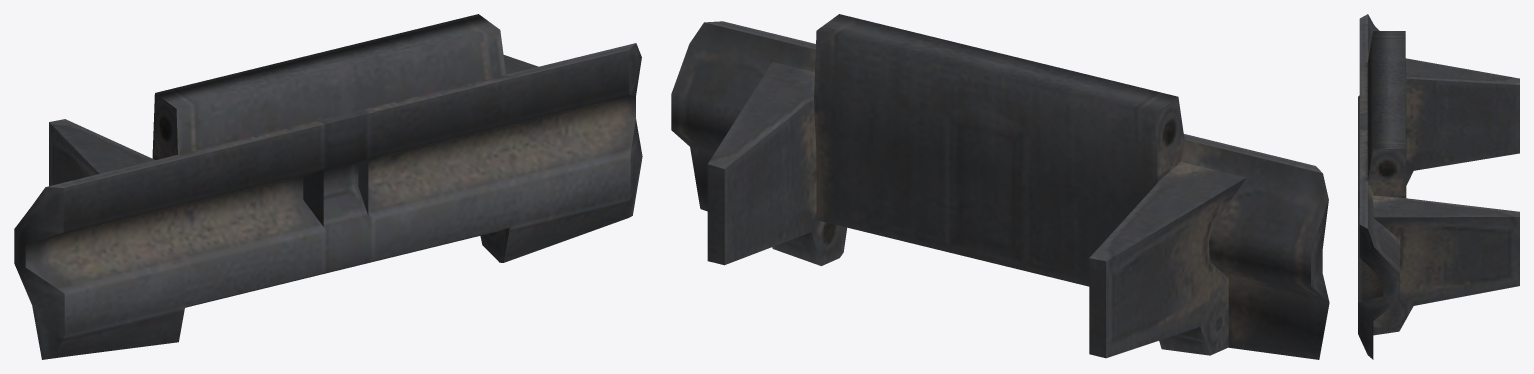
3 views of the same model, side by side, from view 1: azimuth 30°, elevation 25°; view 2: azimuth 150°, elevation 25°; view 3: azimuth 270°, elevation 25° (orthographic). The views are drawn at different scales.
Parts seen in each view (by area): view 1: set_0_group_0; view 2: set_0_group_0; view 3: set_0_group_0.
Boxes of the visible parts, bbox=[...] form: set_0_group_0: bbox=[14, 14, 642, 359]; set_0_group_0: bbox=[671, 14, 1329, 359]; set_0_group_0: bbox=[1358, 14, 1519, 359].
Bounding box in the file's own units: 0.2912 × 0.1061 × 0.0896.
1 material, 1 textured.
